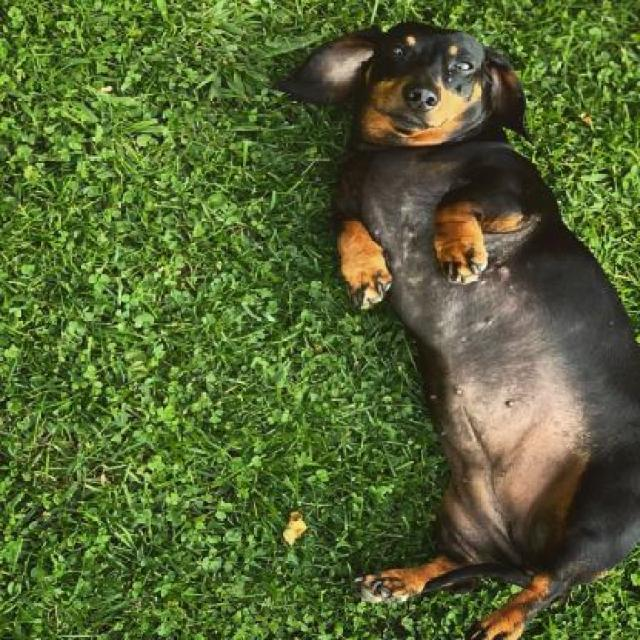Dog: (277, 21, 637, 638)
